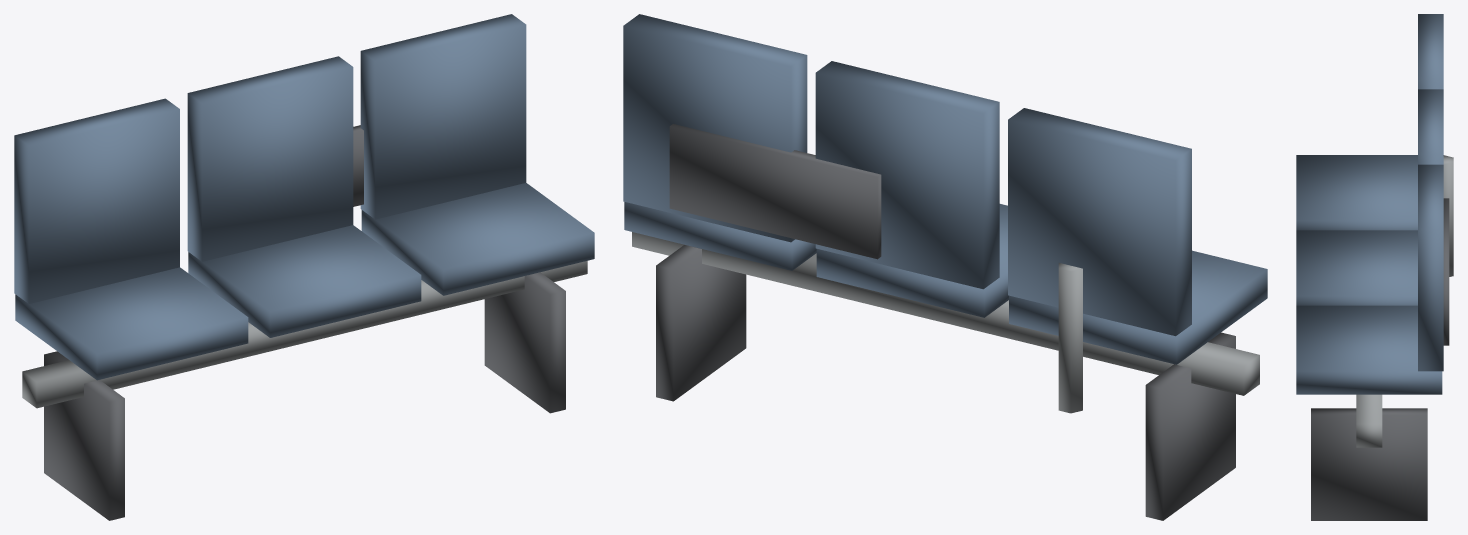
File: waiting_chair_beam_row__service.glb
3 renders of one model, left to right at view 1: azimuth 30°, elevation 25°; view 2: azimuth 150°, elevation 25°; view 3: azimuth 270°, elevation 25°, orthographic. The views are drawn at different scales.
Parts seen in each view (by area): view 1: world; view 2: world; view 3: world.
Boxes of the visible parts, bbox=[...] form: world: bbox=[14, 14, 594, 520]; world: bbox=[623, 14, 1267, 520]; world: bbox=[1296, 14, 1453, 520].
Bounding box in the file's own units: 1.75 × 1.02 × 0.4853.
